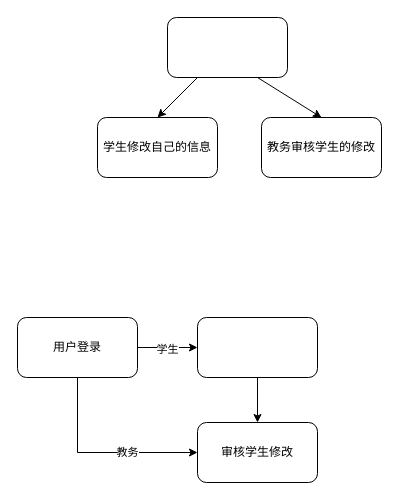
This 399x500 diagram has some shape labels left out. Each missing label, with the centre of its shape:
学生信息管理: [227,47]
学生维护信息: [257,347]
